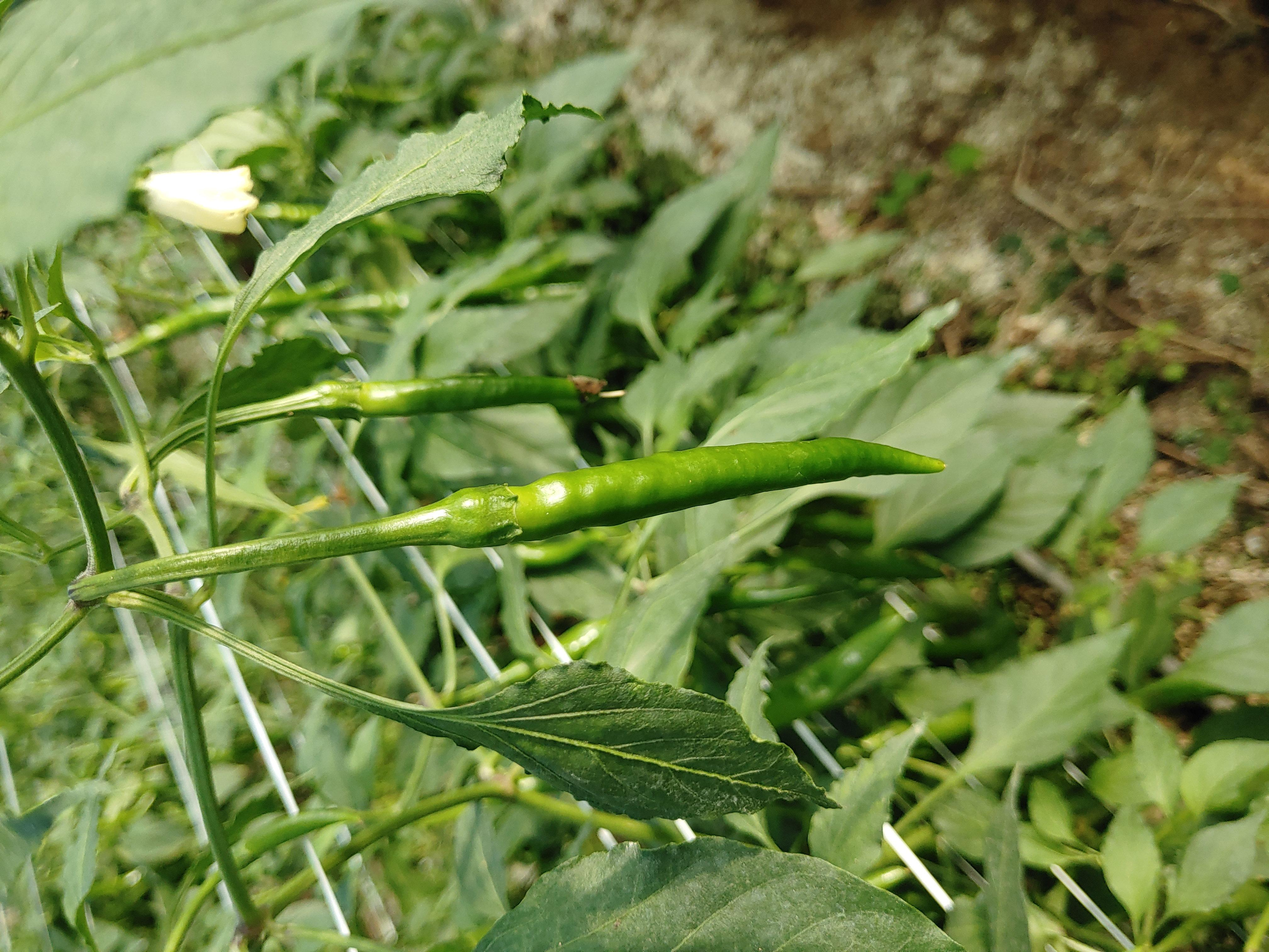Buah Cabai Sehat: (432, 431, 948, 550), (326, 366, 618, 423)
Daun Cabai Sehat: (371, 655, 842, 824), (477, 832, 962, 952)
